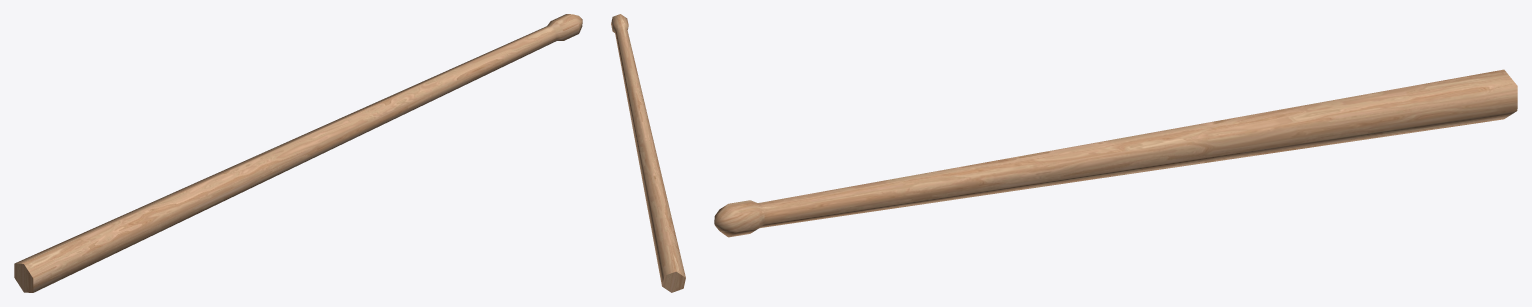
The model's file is SM_Stick_4k_2.fbx.
The picture shows the model from 3 angles, left to right: view 1: azimuth 90°, elevation 25°; view 2: azimuth 150°, elevation 25°; view 3: azimuth 270°, elevation 25°; orthographic projection. The views are drawn at different scales.
Visible parts, largest first — view 1: DrumStick_4k.002; view 2: DrumStick_4k.002; view 3: DrumStick_4k.002.
Part boxes in pixels (x1=…): DrumStick_4k.002: x1=14, y1=14, x2=582, y2=292; DrumStick_4k.002: x1=611, y1=14, x2=685, y2=292; DrumStick_4k.002: x1=714, y1=69, x2=1517, y2=237.
Size of the model in its own units: 25.22 by 7.07 by 33.3.
Materials: 1 (1 with a texture image).
